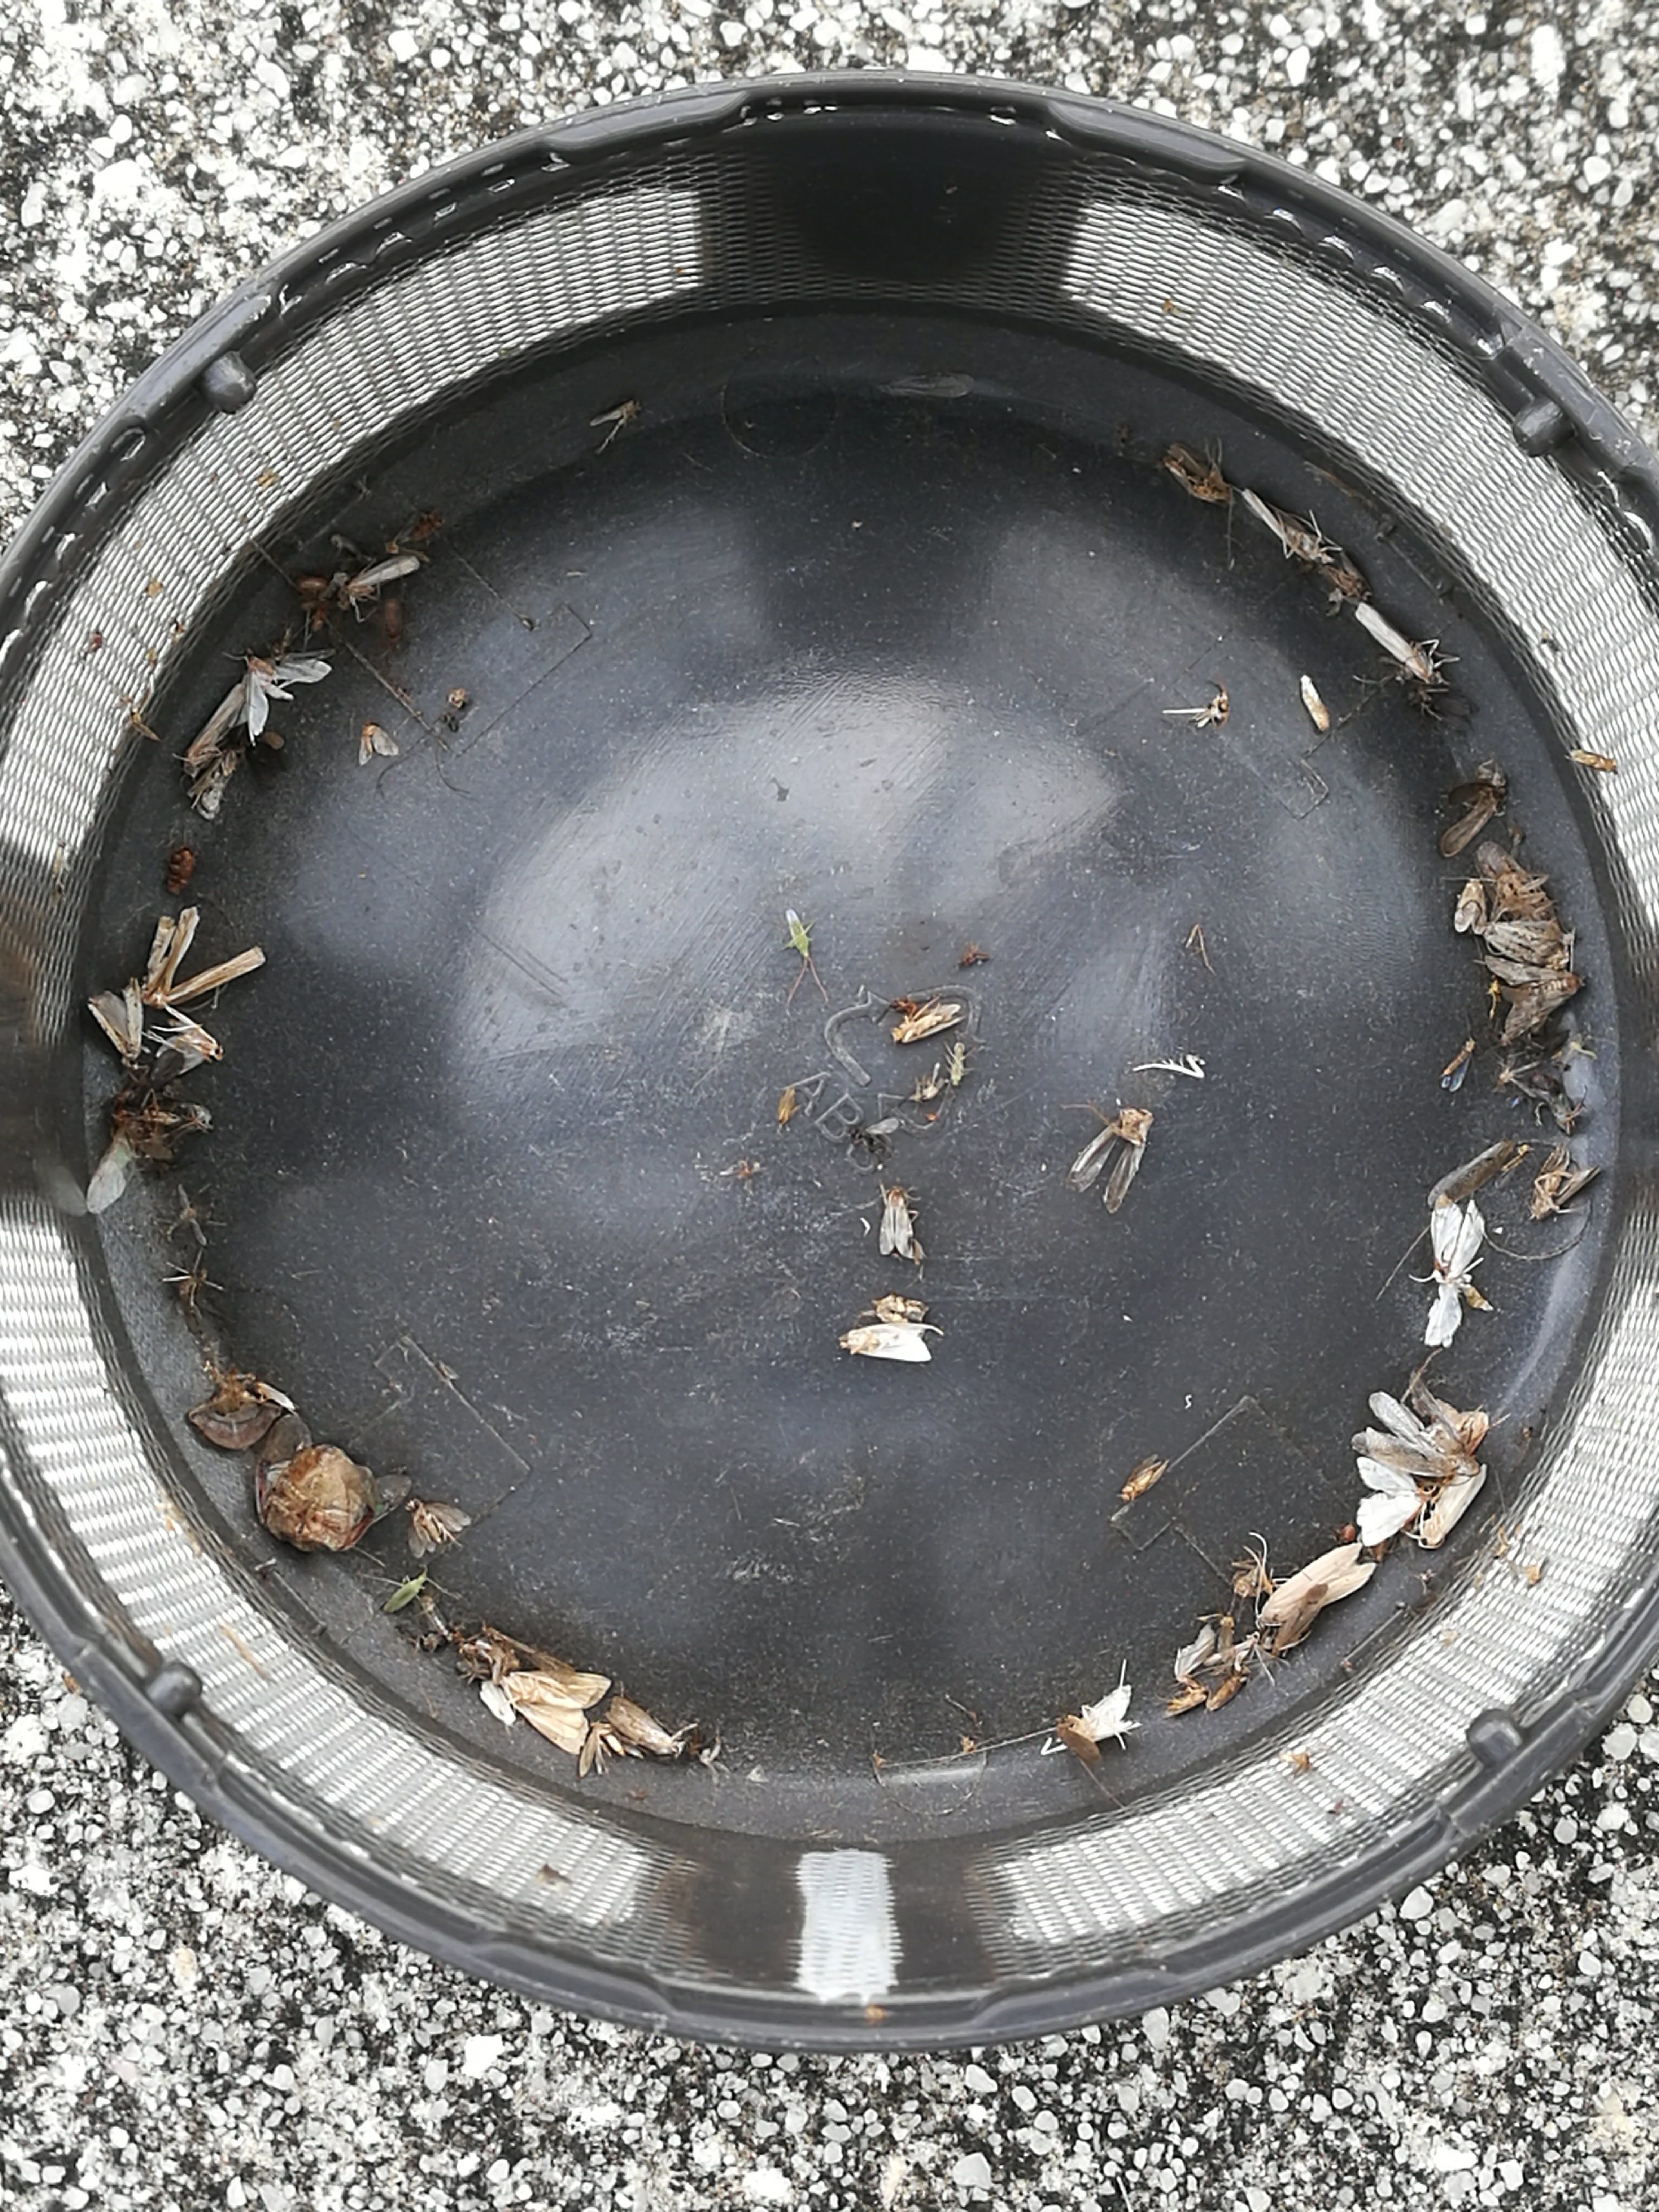beetle: (268, 1444, 373, 1550)
mosquito: (1356, 603, 1441, 685), (1246, 489, 1333, 563), (1422, 1463, 1486, 1545), (610, 1696, 681, 1756), (1279, 1581, 1326, 1653), (347, 556, 416, 596), (890, 1005, 964, 1042), (1121, 1454, 1168, 1501), (1169, 1688, 1208, 1716), (1213, 1677, 1244, 1709)
moth: (186, 655, 329, 754), (1354, 1376, 1481, 1474), (1422, 1195, 1495, 1345), (1255, 1545, 1375, 1625), (504, 1674, 612, 1752), (1486, 958, 1582, 1036), (1356, 1456, 1425, 1545), (1530, 1144, 1601, 1221), (1061, 1686, 1134, 1749), (157, 1008, 221, 1078), (1481, 920, 1568, 967), (91, 979, 143, 1055), (406, 1498, 472, 1555), (840, 1322, 934, 1362), (157, 1019, 220, 1075), (880, 1188, 915, 1256)
